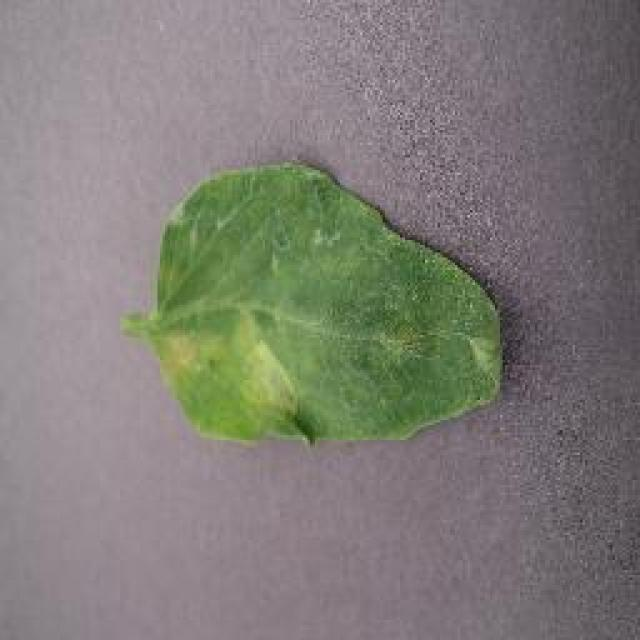Tomato late blight leaf: (124, 164, 511, 451)
